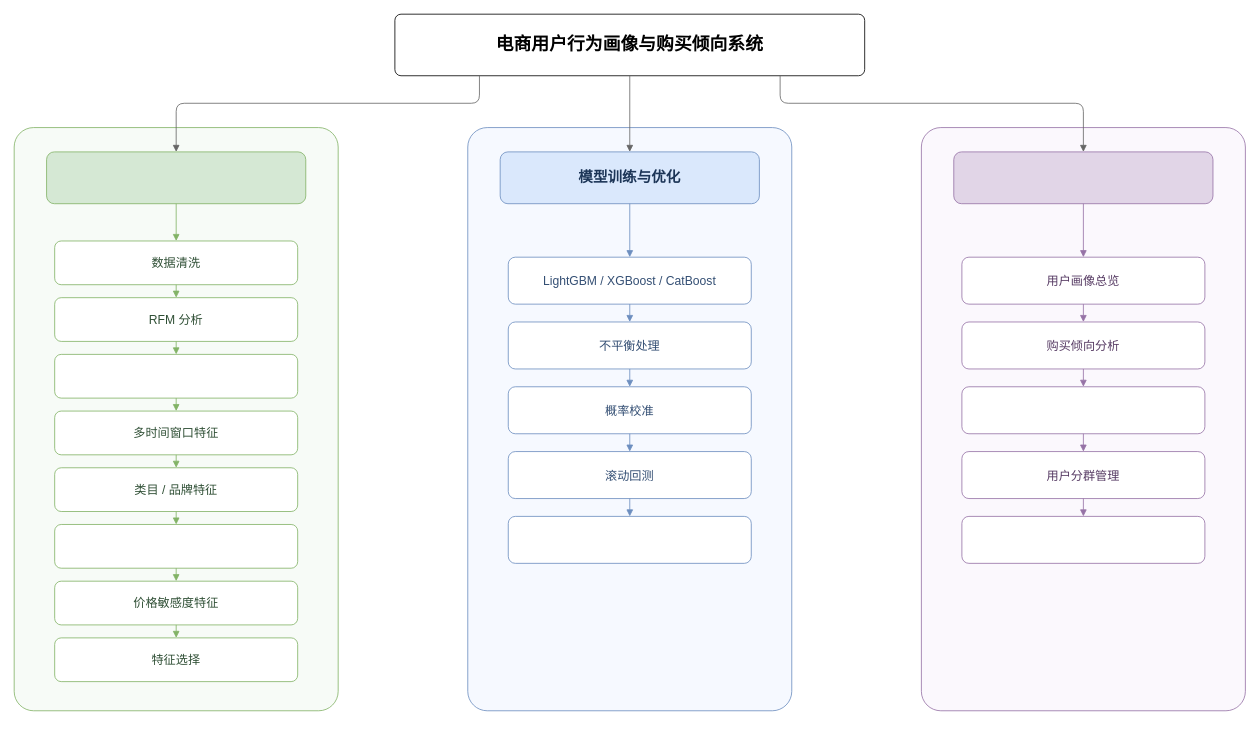
The diagram is 1260 pixels wide and 731 high, and some of its shapes have lost their labels. Each missing label, with the centre of its shape:
K-Means 聚类: point 176,376
SHAP 分析: point 629,539
可视化服务: point 1083,177
数据处理与特征工程: point 176,177
热销商品分析: point 1083,539
行为路径特征: point 176,546
行为路径追踪: point 1083,410
